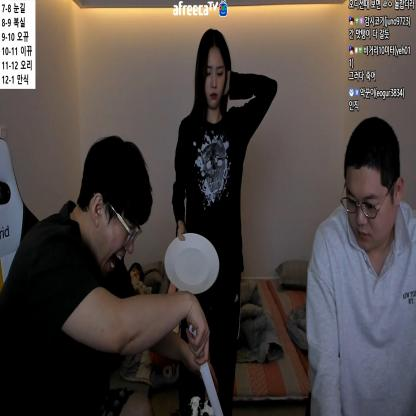streamer: (0, 136, 211, 416), (172, 28, 277, 416), (305, 115, 416, 416)
